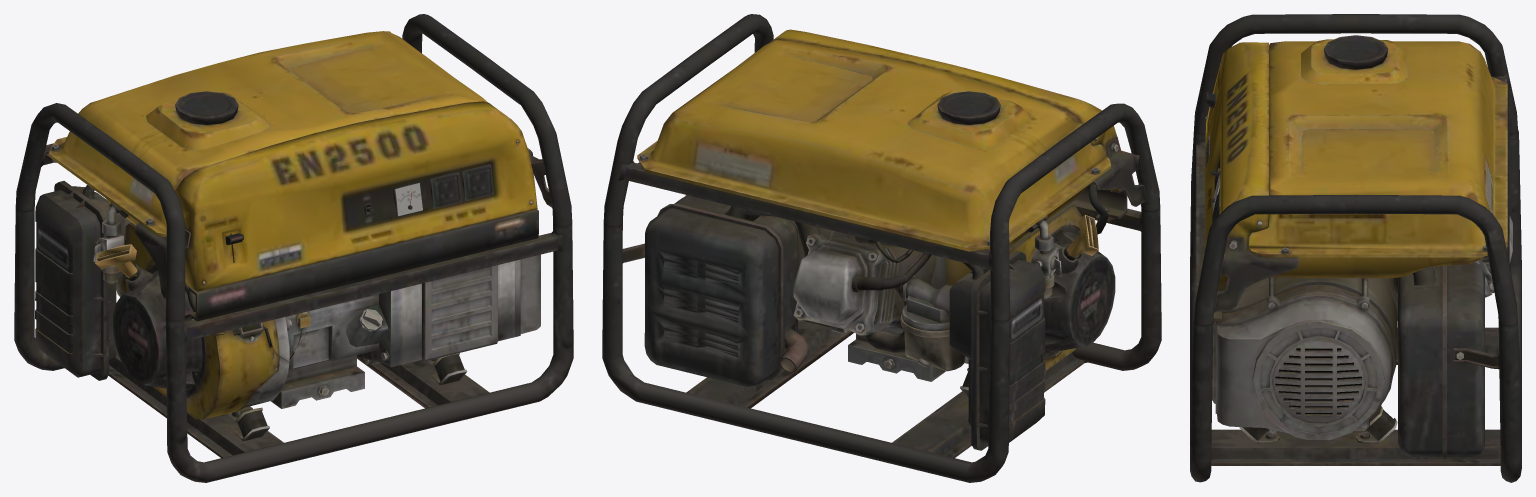
File: portable_generator.glb
3 views of the same model, side by side, from view 1: azimuth 30°, elevation 25°; view 2: azimuth 150°, elevation 25°; view 3: azimuth 270°, elevation 25° (orthographic).
Parts seen in each view (by area): view 1: portable_generator; view 2: portable_generator; view 3: portable_generator.
Boxes of the visible parts, <box> form: portable_generator: <box>14,14,573,482</box>; portable_generator: <box>602,14,1161,482</box>; portable_generator: <box>1190,14,1521,482</box>.
Size of the model in its own units: 0.8169 by 0.5752 by 0.564.
Materials: 2 (2 with a texture image).
